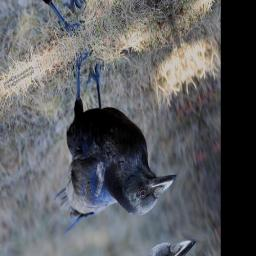Crow: (20, 22, 181, 256)
